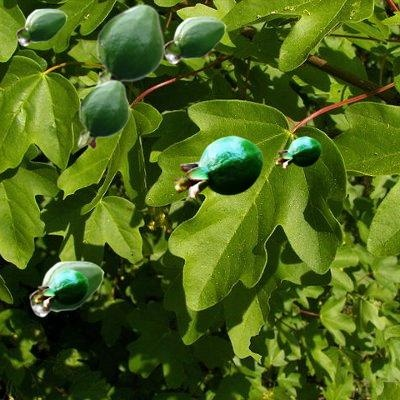guava: (172, 135, 262, 199), (94, 3, 163, 86), (29, 260, 103, 316), (77, 79, 128, 149), (164, 16, 225, 63), (33, 269, 87, 307), (16, 8, 66, 45), (274, 136, 320, 168)
